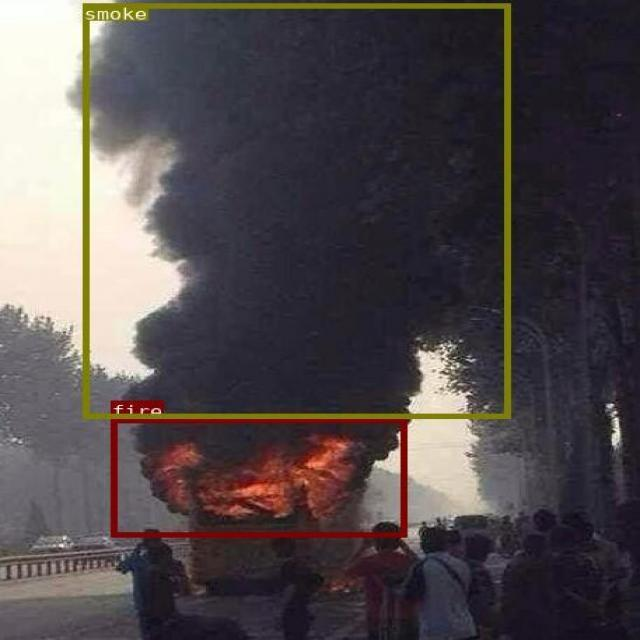fire: (110, 417, 405, 536)
smoke: (83, 2, 509, 418)
